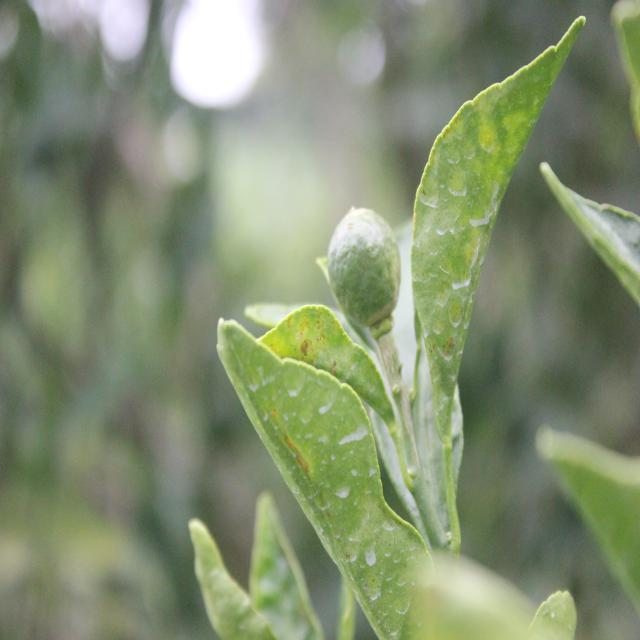canker: (418, 89, 530, 469), (242, 354, 363, 547), (266, 308, 388, 412)
